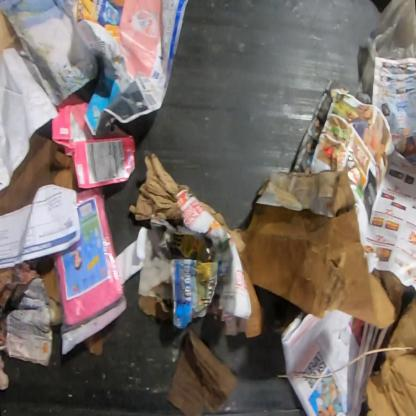cardboard: (135, 152, 396, 337), (52, 91, 137, 190), (0, 133, 80, 217), (165, 331, 238, 415), (367, 293, 415, 415), (38, 254, 59, 301)
soft_plastic: (50, 186, 127, 356), (354, 0, 415, 104)
